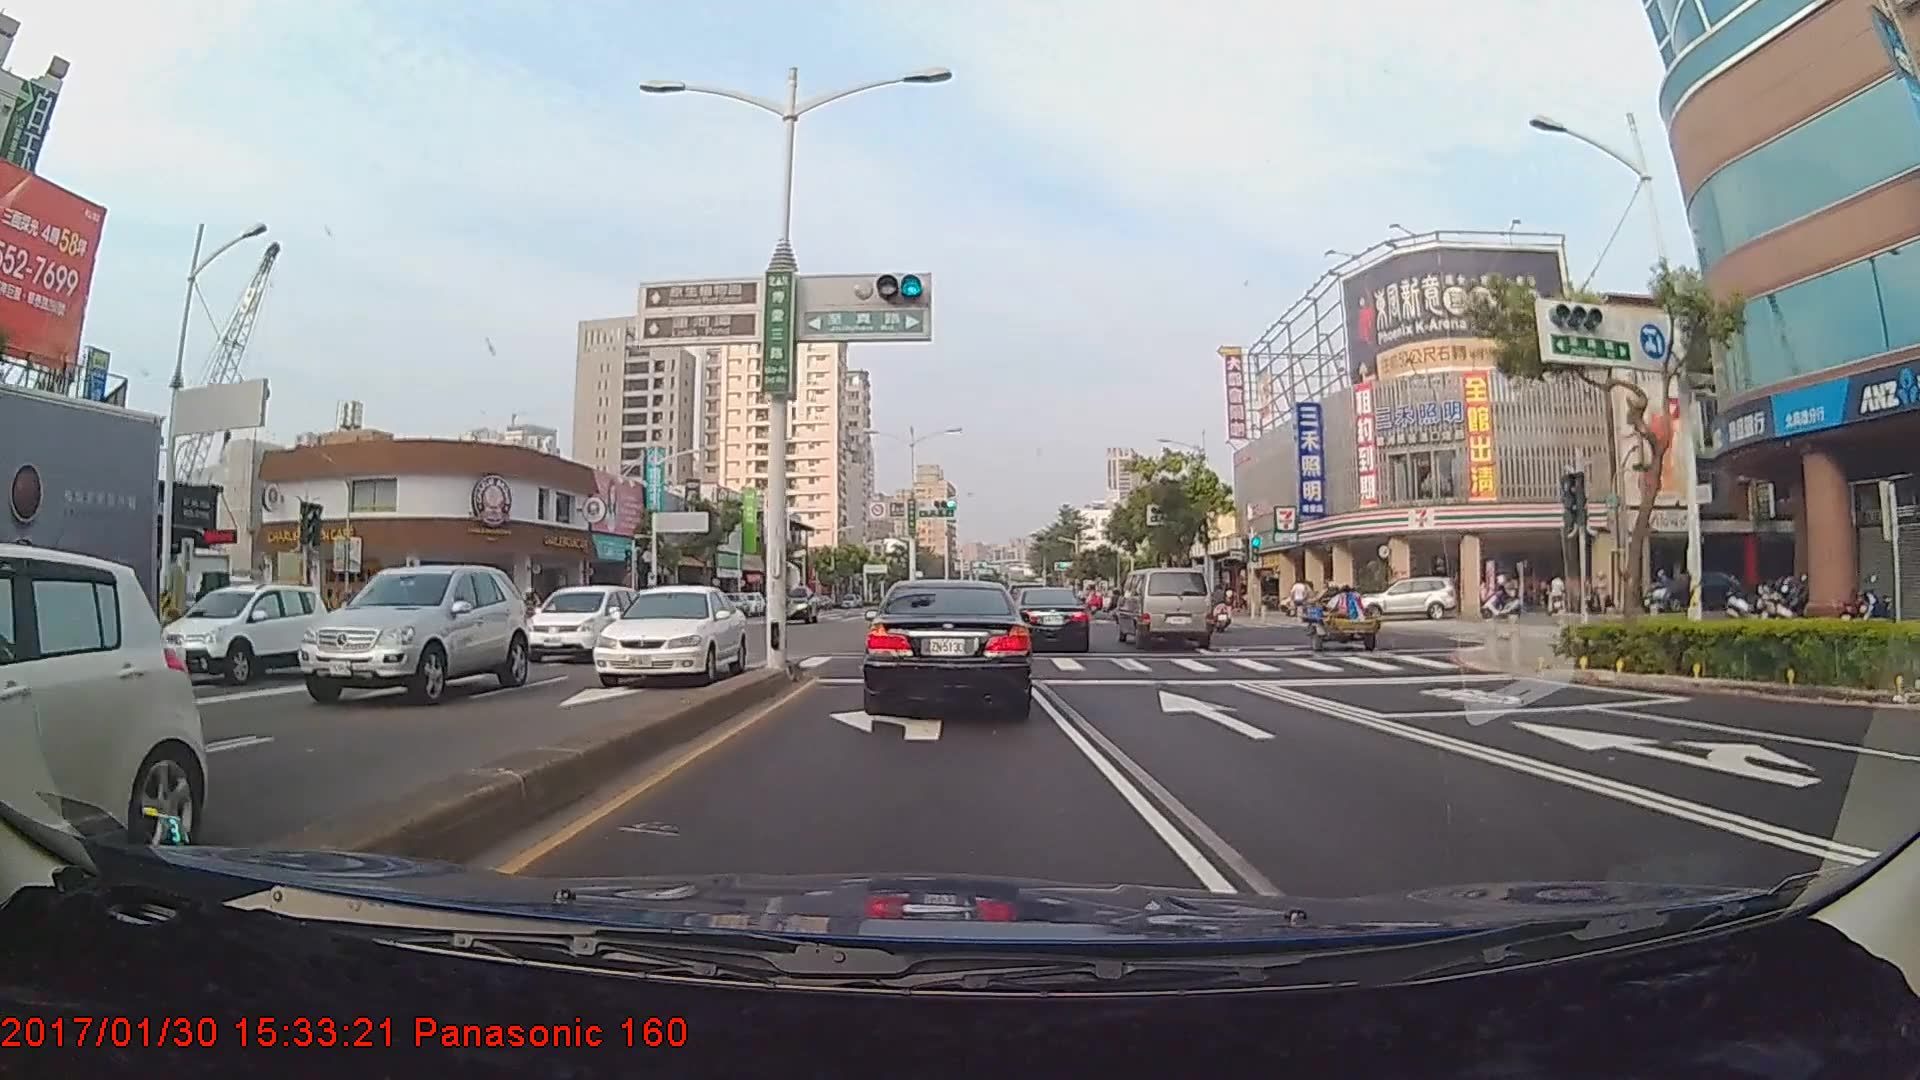rider: (511, 583, 547, 638)
vehicle: (0, 546, 195, 886), (0, 384, 162, 737), (288, 558, 524, 705), (867, 576, 1032, 719), (585, 581, 751, 685), (180, 577, 322, 683), (514, 582, 639, 661), (1117, 565, 1215, 650), (1011, 587, 1091, 651), (1365, 574, 1460, 623)
